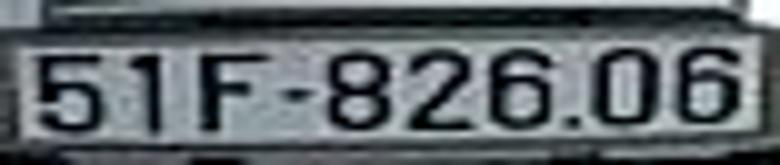-: (281, 87, 314, 99)
.: (565, 116, 585, 131)
0: (597, 50, 660, 123)
1: (130, 52, 167, 136)
2: (406, 50, 473, 130)
5: (34, 51, 102, 134)
6: (675, 44, 746, 123), (489, 44, 553, 129)
8: (327, 49, 390, 130)
F: (199, 50, 265, 130)
